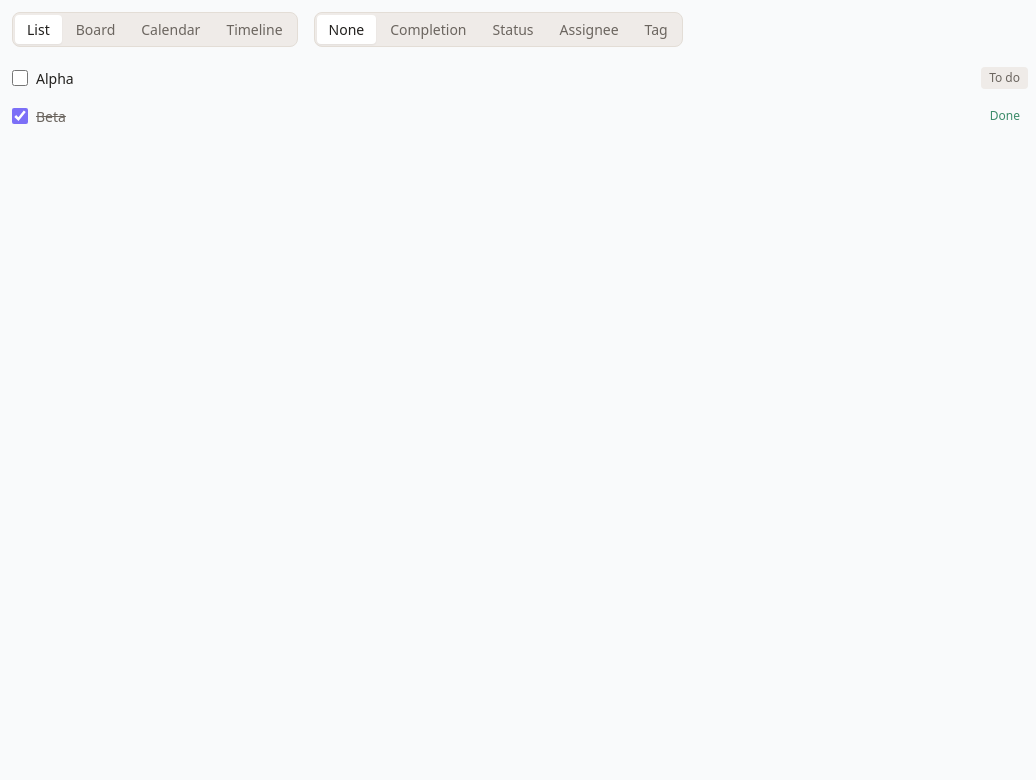
Test case: ViewContainer › switching to Calendar renders calendar-view
Click the button "Calendar" at (171,30), box [129,15,212,44]
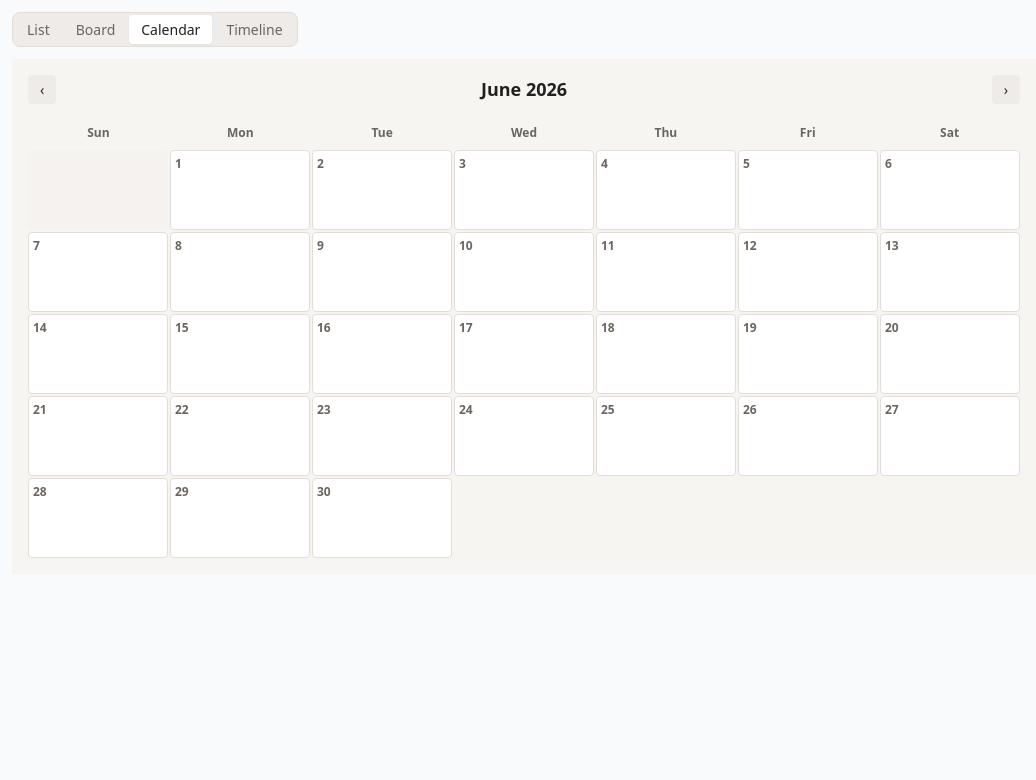
Expected: the element with test id "calendar-view" is shown
Expected: the element with test id "list-view-lens" is gone
